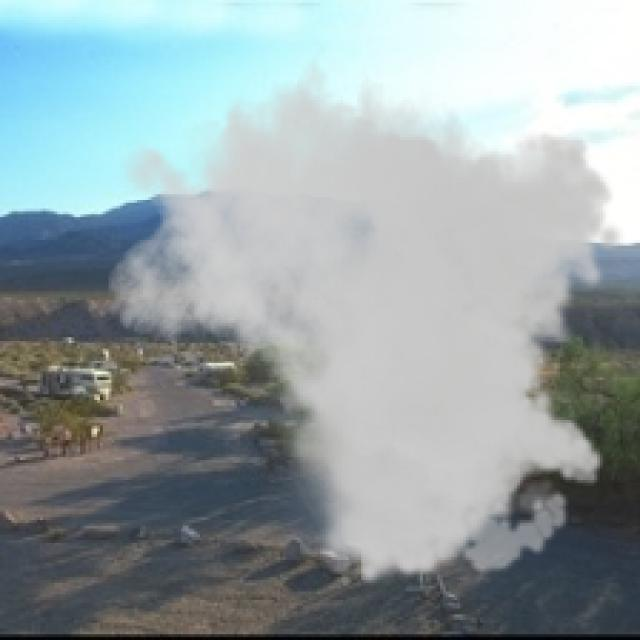Smoke: (105, 37, 626, 589)
